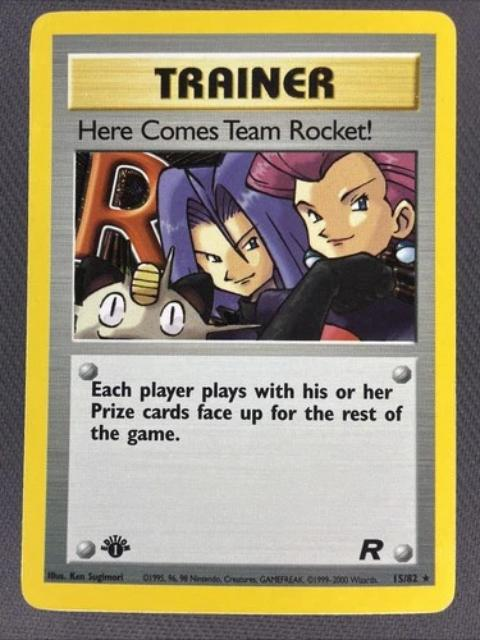Card: (15, 6, 462, 619)
Name: (67, 112, 384, 151)
